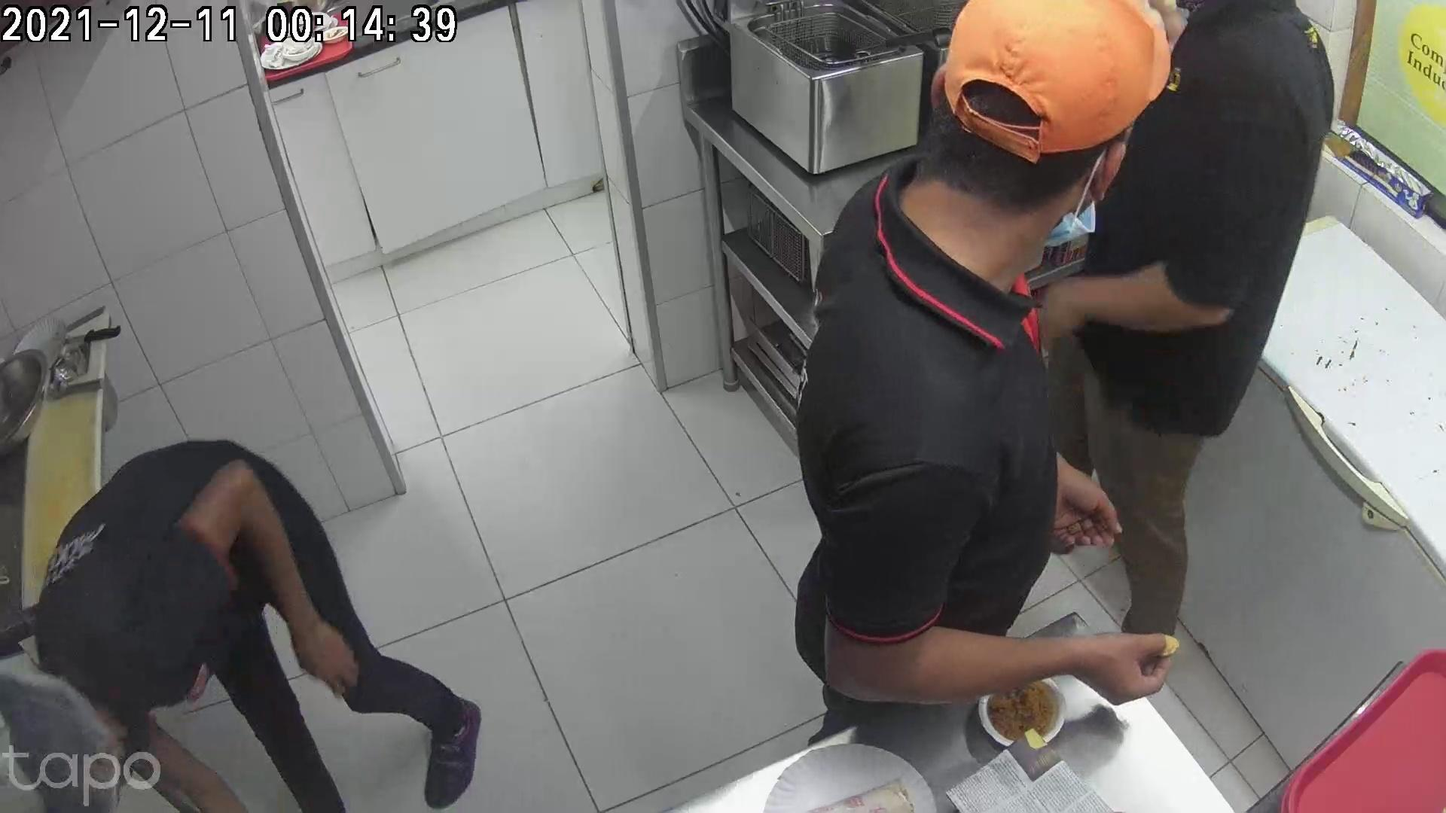gloves: (743, 572, 833, 724)
